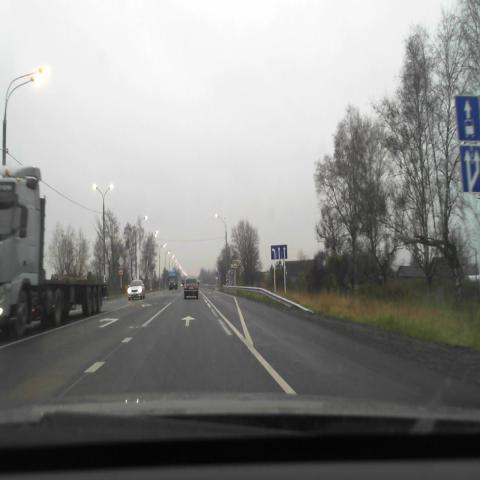5_14: (454, 95, 480, 141)
5_15_3: (460, 146, 480, 192)
